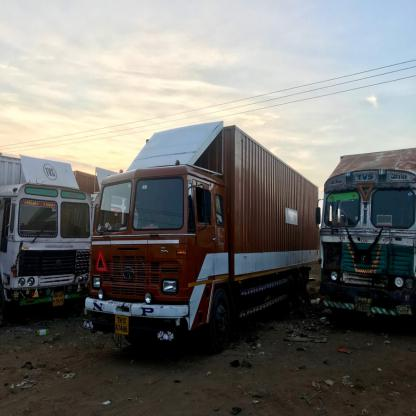truck: (83, 122, 319, 358), (316, 150, 413, 331), (2, 152, 90, 326)
